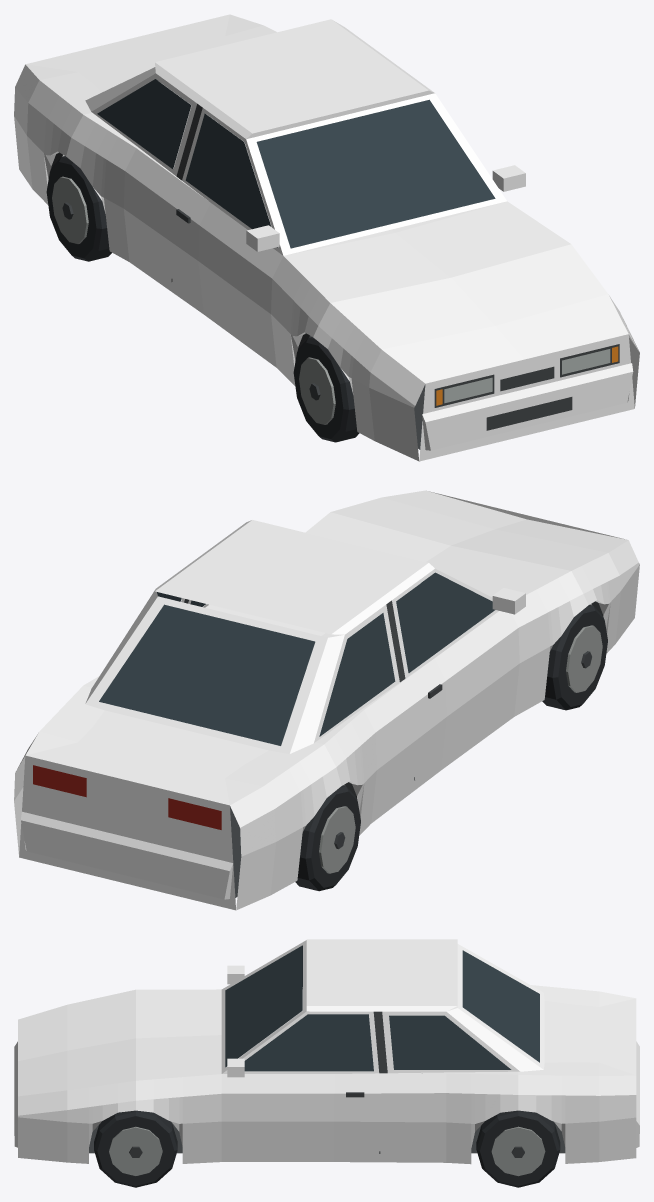
File: whitlock_sagebrush.glb
3 views of the same model, one above another, from view 1: azimuth 30°, elevation 25°; view 2: azimuth 150°, elevation 25°; view 3: azimuth 270°, elevation 25° (orthographic). The views are drawn at different scales.
Parts seen in each view (by area): view 1: whitlock_sagebrush; view 2: whitlock_sagebrush; view 3: whitlock_sagebrush.
Part boxes in pixels (<box>): whitlock_sagebrush: <box>14,14,639,461</box>; whitlock_sagebrush: <box>14,490,639,910</box>; whitlock_sagebrush: <box>14,939,639,1187</box>.
Bounding box in the file's own units: 1.73 × 1.29 × 4.4.
Materials: 8 (1 with a texture image).
